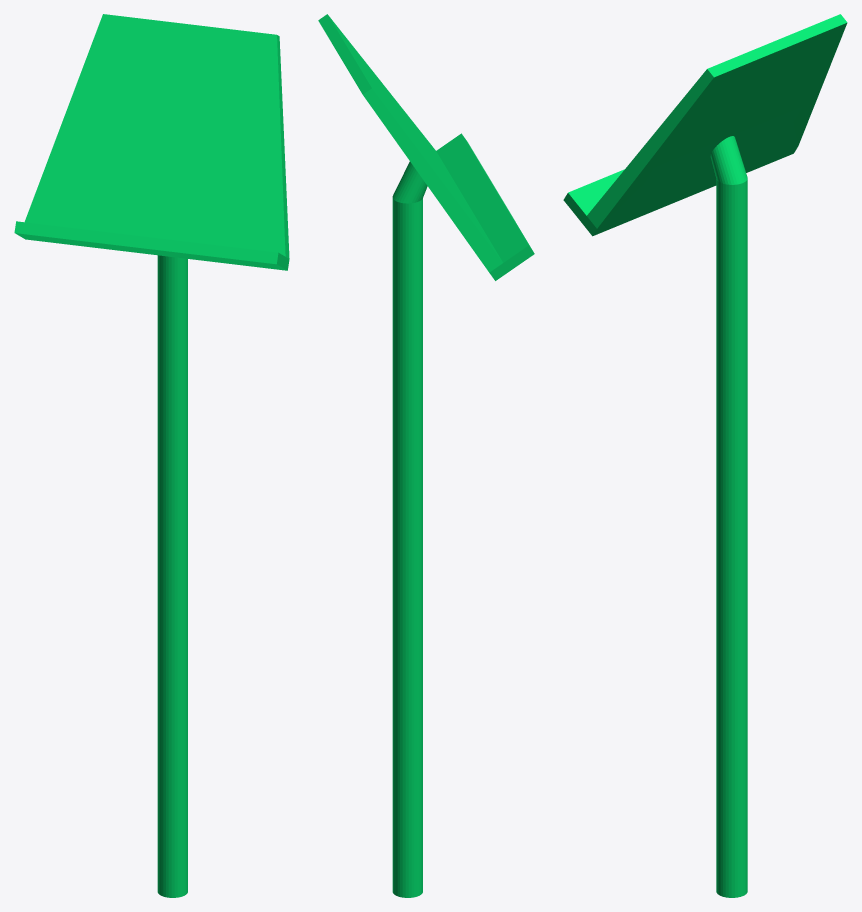
Rendered from pupitre.fbx.
3 renders of one model, left to right at view 1: azimuth 30°, elevation 25°; view 2: azimuth 150°, elevation 25°; view 3: azimuth 270°, elevation 25°, orthographic. The views are drawn at different scales.
Parts seen in each view (by area): view 1: Pupitre; view 2: Pupitre; view 3: Pupitre.
Part boxes in pixels (x1=…): Pupitre: x1=14, y1=14, x2=289, y2=897; Pupitre: x1=318, y1=14, x2=534, y2=897; Pupitre: x1=563, y1=14, x2=847, y2=897.
Size of the model in its own units: 58.28 by 195 by 57.86.
